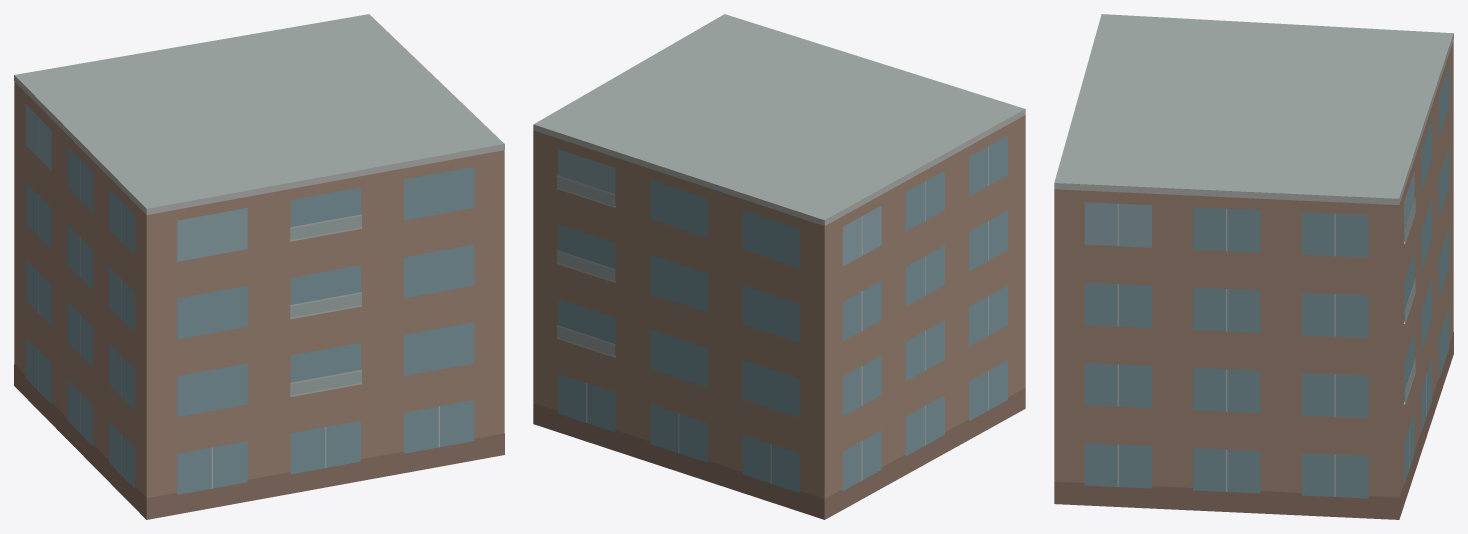
File: survey-upis-32873767.glb
The picture shows the model from 3 angles, left to right: view 1: azimuth 30°, elevation 25°; view 2: azimuth 150°, elevation 25°; view 3: azimuth 270°, elevation 25°; orthographic projection. The views are drawn at different scales.
Visible parts, largest first — view 1: survey-upis-32873767.tmp; view 2: survey-upis-32873767.tmp; view 3: survey-upis-32873767.tmp.
Boxes of the visible parts, x1=… form: survey-upis-32873767.tmp: x1=14, y1=14, x2=504, y2=519; survey-upis-32873767.tmp: x1=533, y1=14, x2=1025, y2=519; survey-upis-32873767.tmp: x1=1054, y1=14, x2=1453, y2=519.
Bounding box in the file's own units: 15.32 × 12.4 × 13.99.
